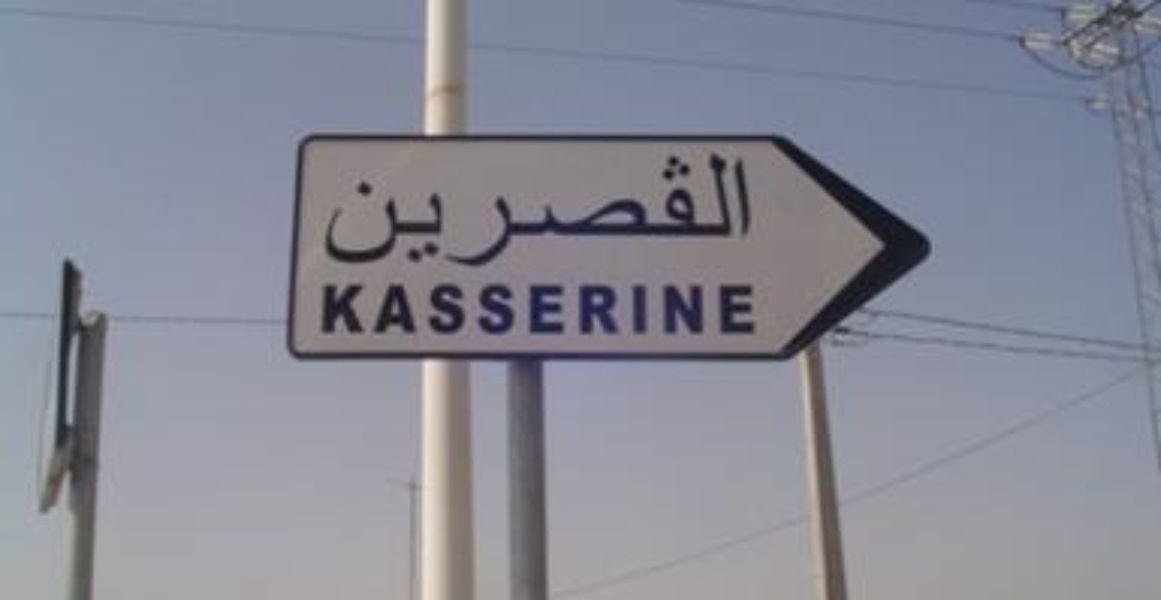text: (321, 148, 336, 269), (337, 148, 352, 269), (353, 148, 368, 269), (369, 148, 384, 269), (385, 148, 400, 269), (401, 148, 416, 269), (417, 148, 432, 269), (433, 148, 448, 269), (449, 148, 464, 269), (465, 148, 480, 269), (481, 148, 496, 269), (497, 148, 512, 269), (513, 148, 528, 269), (529, 148, 544, 269), (545, 148, 560, 269), (561, 148, 576, 269), (577, 148, 592, 269), (593, 148, 608, 269), (609, 148, 624, 269), (625, 148, 640, 269), (641, 148, 656, 269), (657, 148, 672, 269), (673, 148, 688, 269), (689, 148, 704, 269), (705, 148, 720, 269), (721, 148, 736, 269), (737, 148, 752, 269), (321, 278, 336, 341), (337, 278, 352, 341), (353, 278, 368, 341), (369, 278, 384, 341), (385, 278, 400, 341), (401, 278, 416, 341), (417, 278, 432, 341), (433, 278, 448, 341), (449, 278, 464, 341), (465, 278, 480, 341), (481, 278, 496, 341), (497, 278, 512, 341), (513, 278, 528, 341), (529, 278, 544, 341), (545, 278, 560, 341), (561, 278, 576, 341), (577, 278, 592, 341), (593, 278, 608, 341), (609, 278, 624, 341), (625, 278, 640, 341), (641, 278, 656, 341), (657, 278, 672, 341), (673, 278, 688, 341), (689, 278, 704, 341), (705, 278, 720, 341), (721, 278, 736, 341), (737, 278, 752, 341), (753, 148, 757, 269), (753, 278, 760, 341), (317, 148, 320, 269)
